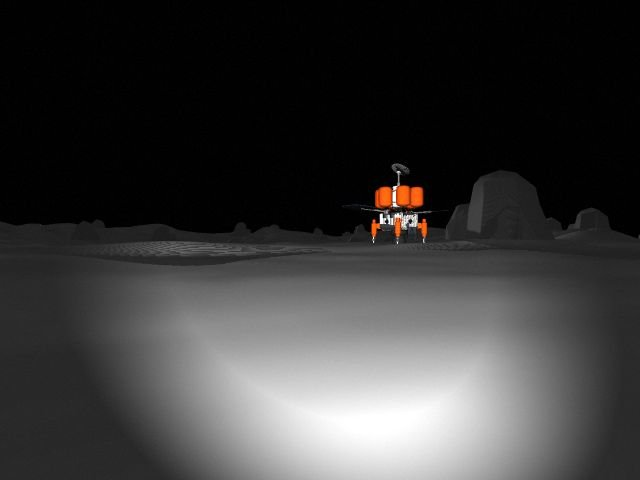homebase: (339, 162, 447, 247)
